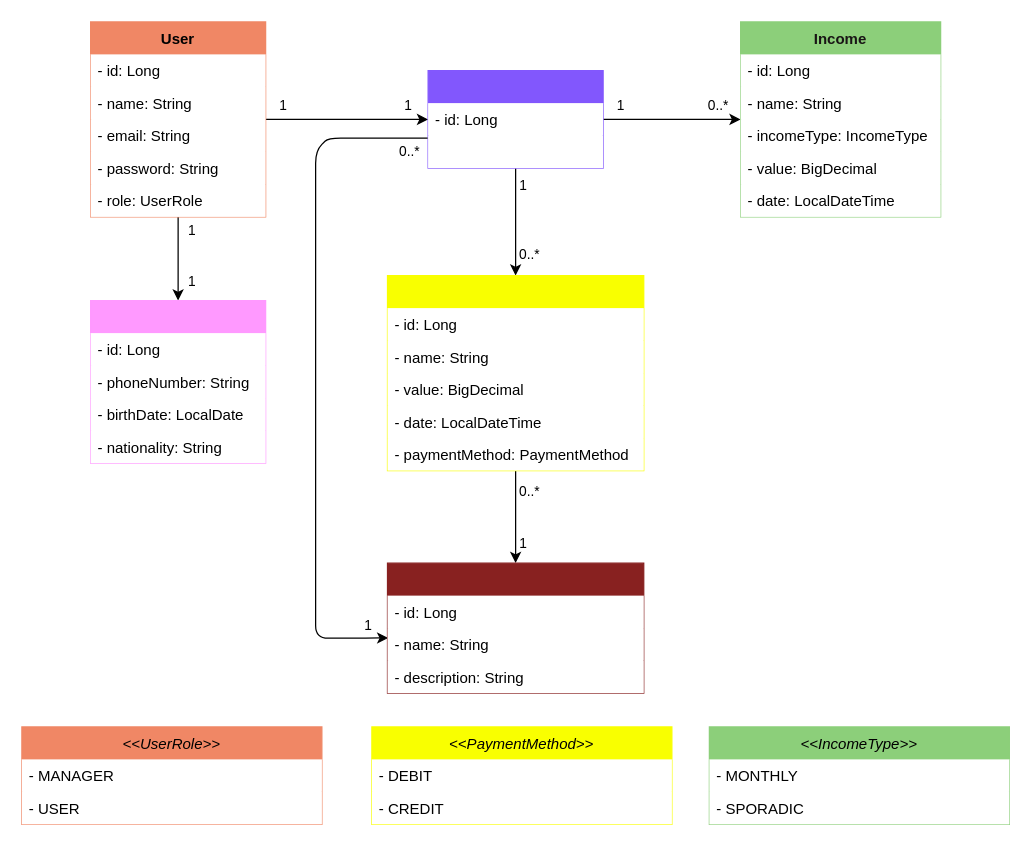
Some shapes in this 1031 by 850 pixel diagram are drawn without their labels. The shapes that lost their labels are listed below. From the top down, each one's box as (x1, y1, x2, y2) in pixels, then its label:
(427, 69, 603, 168): Wallet
(428, 135, 602, 168): - balance: BigDecimal
(89, 299, 266, 463): Personal_Information
(386, 274, 644, 471): Expense
(386, 562, 644, 693): Category
